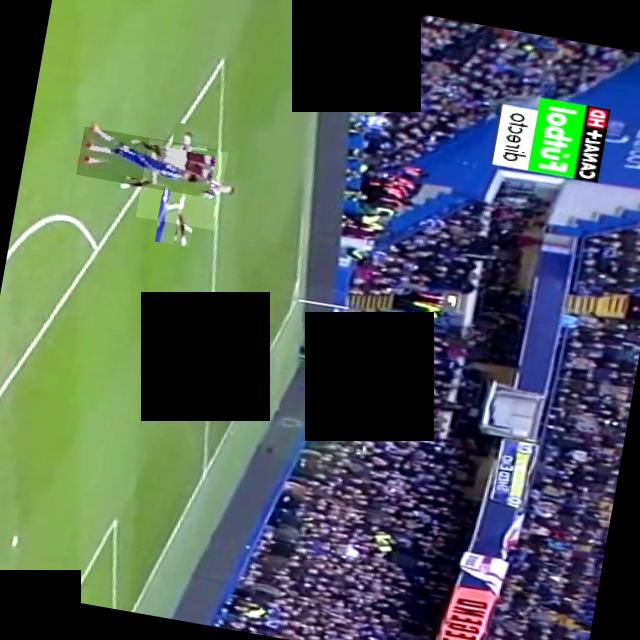referee: (324, 24, 408, 104)
soccer-player: (76, 125, 217, 197), (135, 138, 228, 230)
